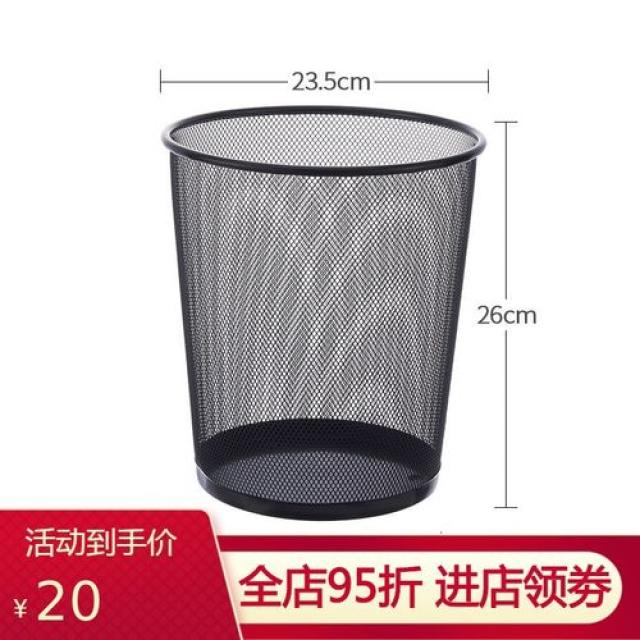dustbin: (154, 96, 490, 523)
